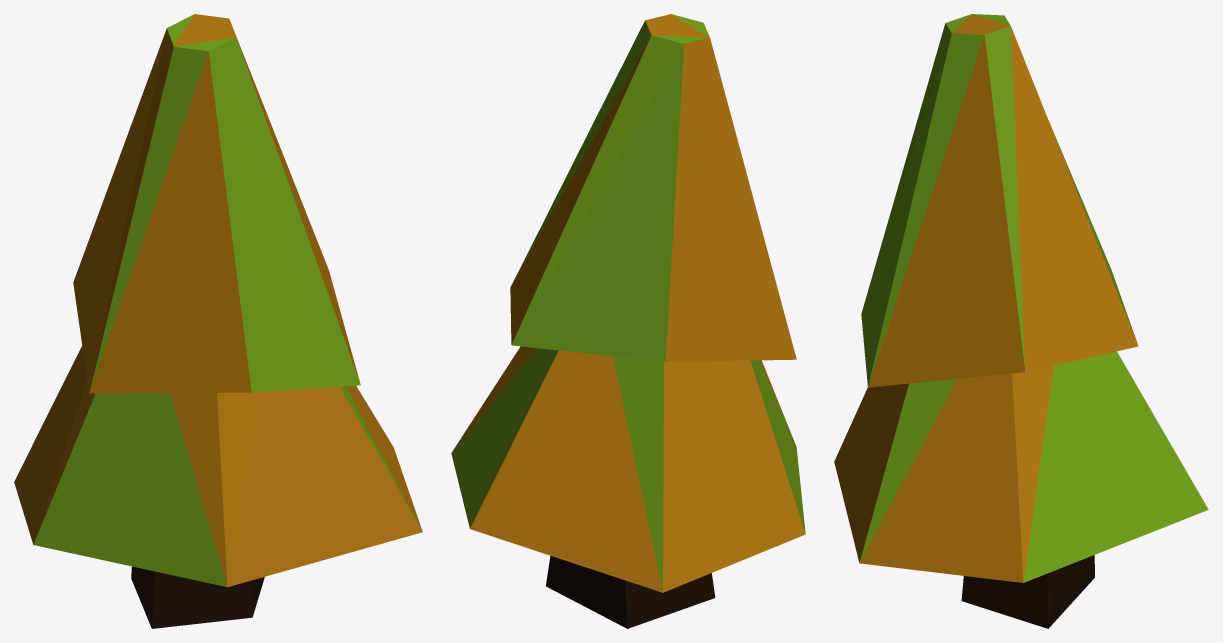
The model's file is Tree2_M2_2_small.fbx.
3 views of the same model, side by side, from view 1: azimuth 30°, elevation 25°; view 2: azimuth 150°, elevation 25°; view 3: azimuth 270°, elevation 25° (orthographic). The views are drawn at different scales.
Visible parts, largest first — view 1: Tree2_M2_2_small; view 2: Tree2_M2_2_small; view 3: Tree2_M2_2_small.
Part boxes in pixels (x1,y1,x2,y2): Tree2_M2_2_small: (14,14,422,628); Tree2_M2_2_small: (451,14,805,628); Tree2_M2_2_small: (834,14,1208,628).
Size of the model in its own units: 95.6 by 147 by 89.06.
